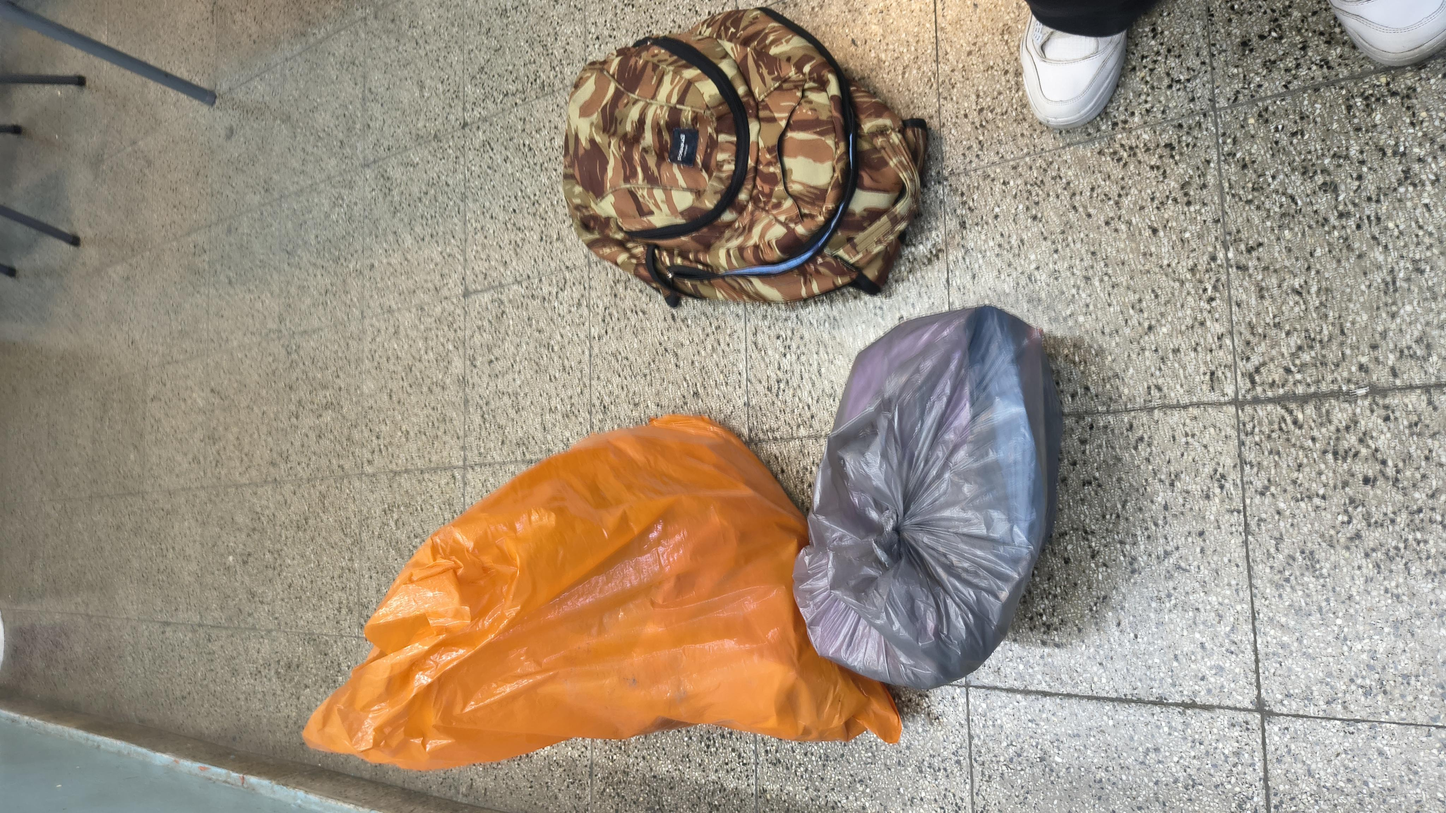Garbage: (25, 171, 759, 508), (213, 439, 941, 619)
